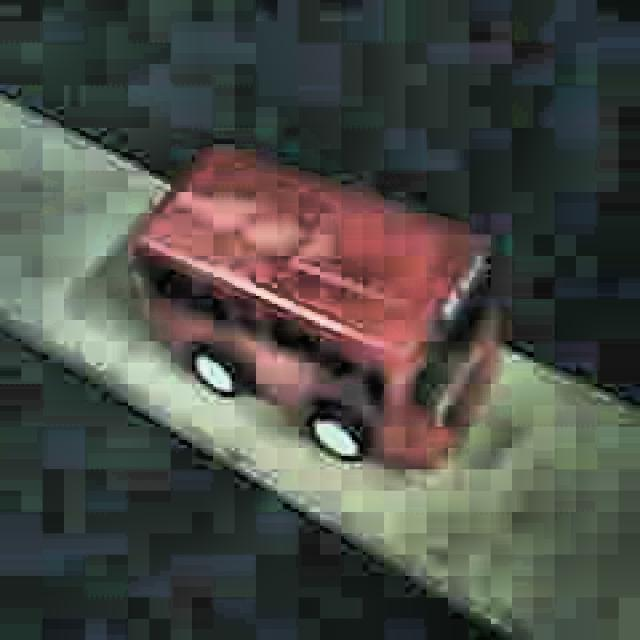bus: (125, 140, 502, 472)
